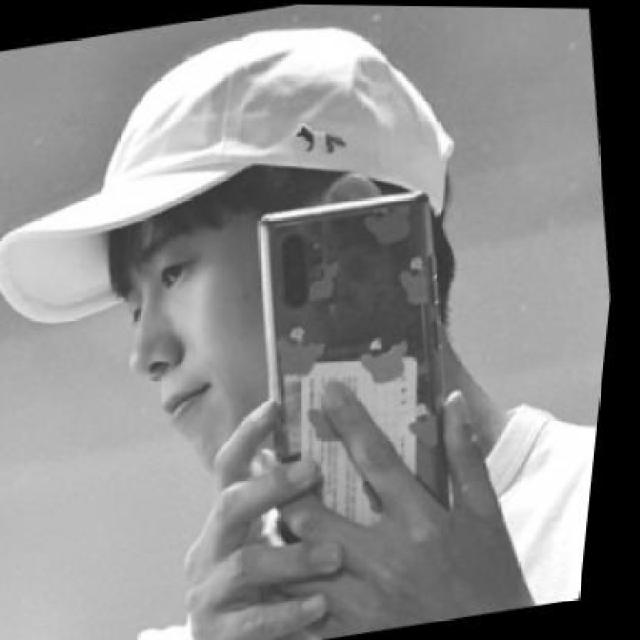hat: (0, 25, 459, 321)
